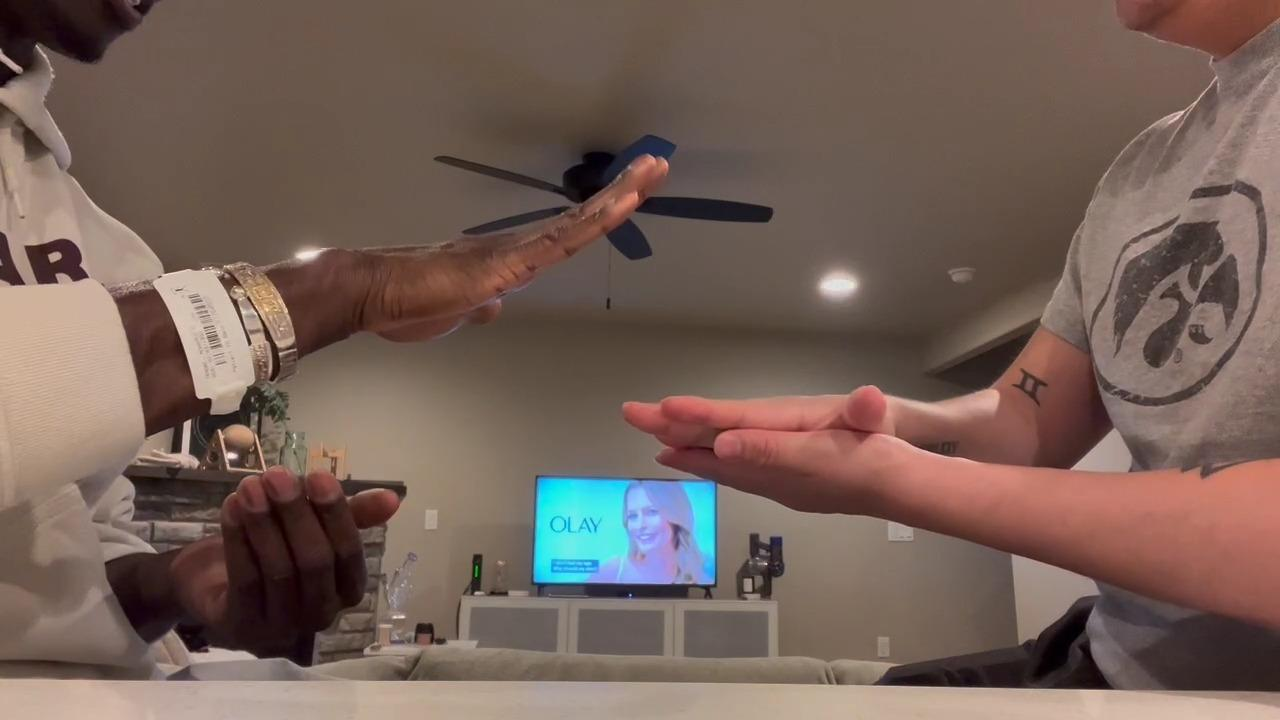Paper: (357, 149, 670, 345), (617, 381, 899, 446)
